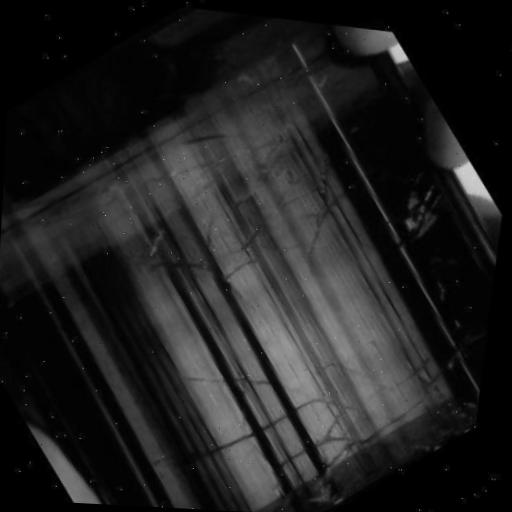phone: (0, 8, 495, 512)
